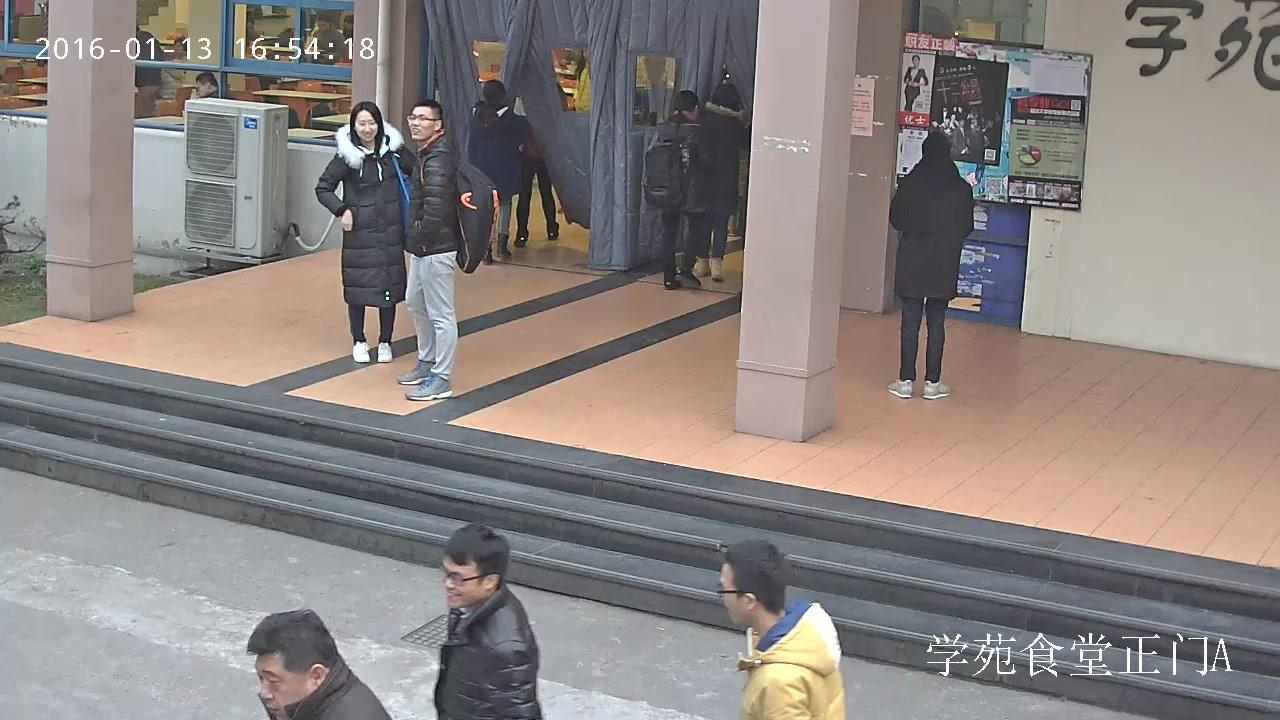person: (398, 99, 500, 402), (314, 100, 416, 363), (713, 539, 846, 720), (888, 130, 974, 401), (432, 524, 541, 720), (643, 90, 703, 290), (466, 80, 526, 265), (693, 83, 749, 281), (514, 81, 566, 248), (160, 38, 192, 100), (309, 14, 345, 64), (903, 55, 929, 110)
